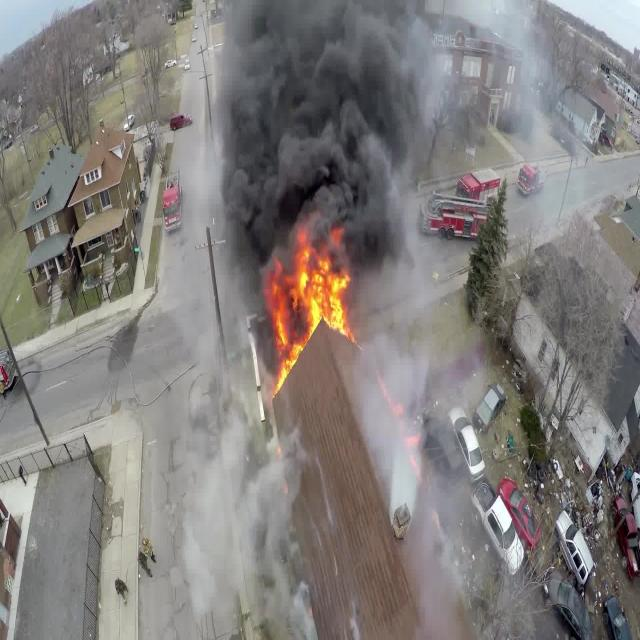Fire: (264, 225, 364, 411)
Smoke: (208, 0, 436, 640)
